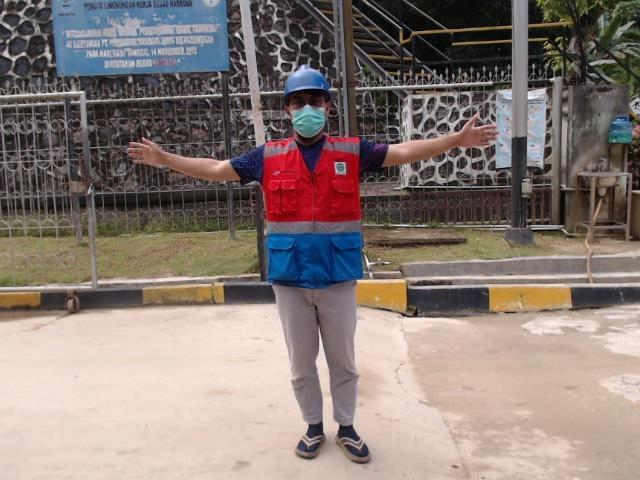helmet: (280, 64, 331, 99)
